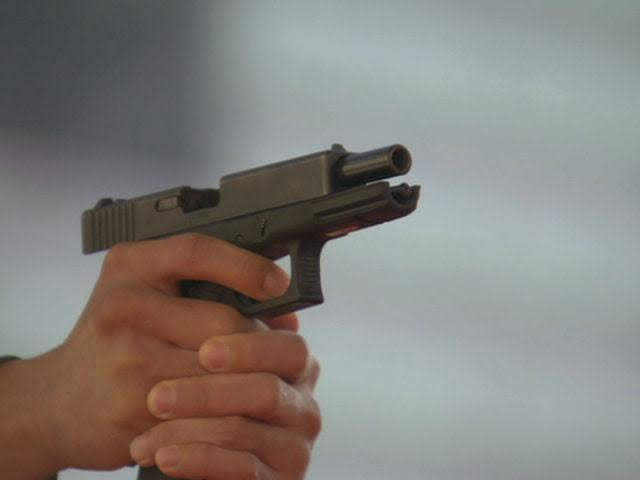gun: (55, 132, 444, 354)
